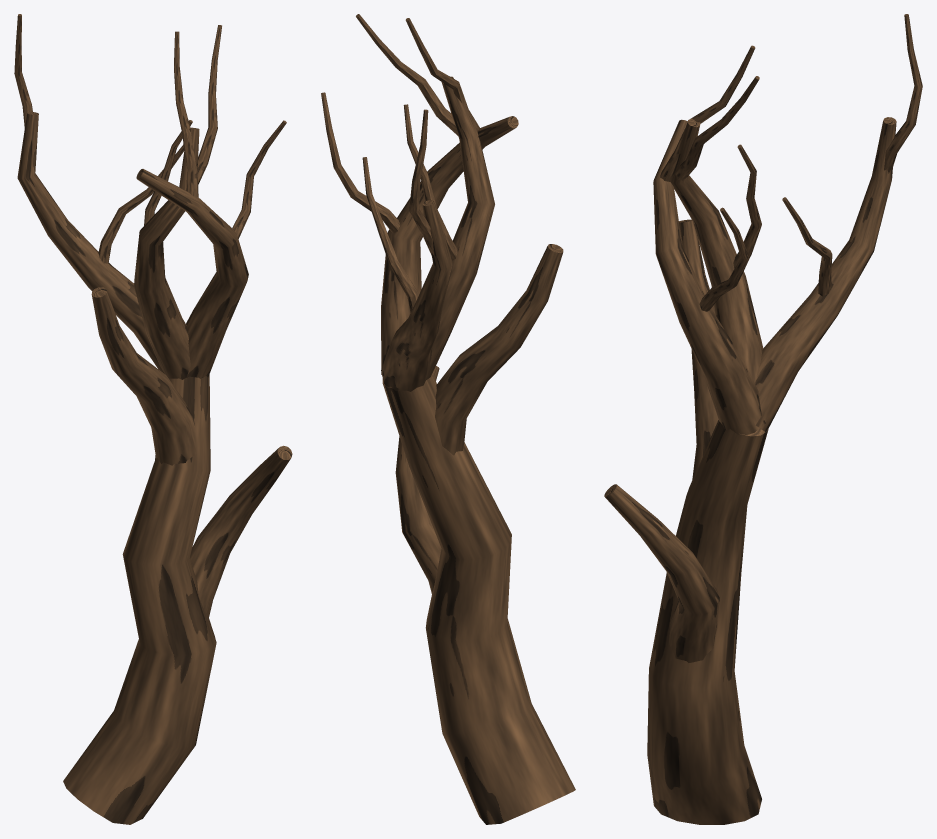
File: SM_Desert_DeadTree_A.glb
3 renders of one model, left to right at view 1: azimuth 30°, elevation 25°; view 2: azimuth 150°, elevation 25°; view 3: azimuth 270°, elevation 25°, orthographic. The views are drawn at different scales.
Parts seen in each view (by area): view 1: SM_Desert_DeadTree_A; view 2: SM_Desert_DeadTree_A; view 3: SM_Desert_DeadTree_A.
Part boxes in pixels (bbox=[...]): SM_Desert_DeadTree_A: bbox=[14, 14, 292, 824]; SM_Desert_DeadTree_A: bbox=[321, 14, 575, 824]; SM_Desert_DeadTree_A: bbox=[604, 14, 922, 824].
Bounding box in the file's own units: 1.01 × 3.18 × 1.14.
1 material, 1 textured.
